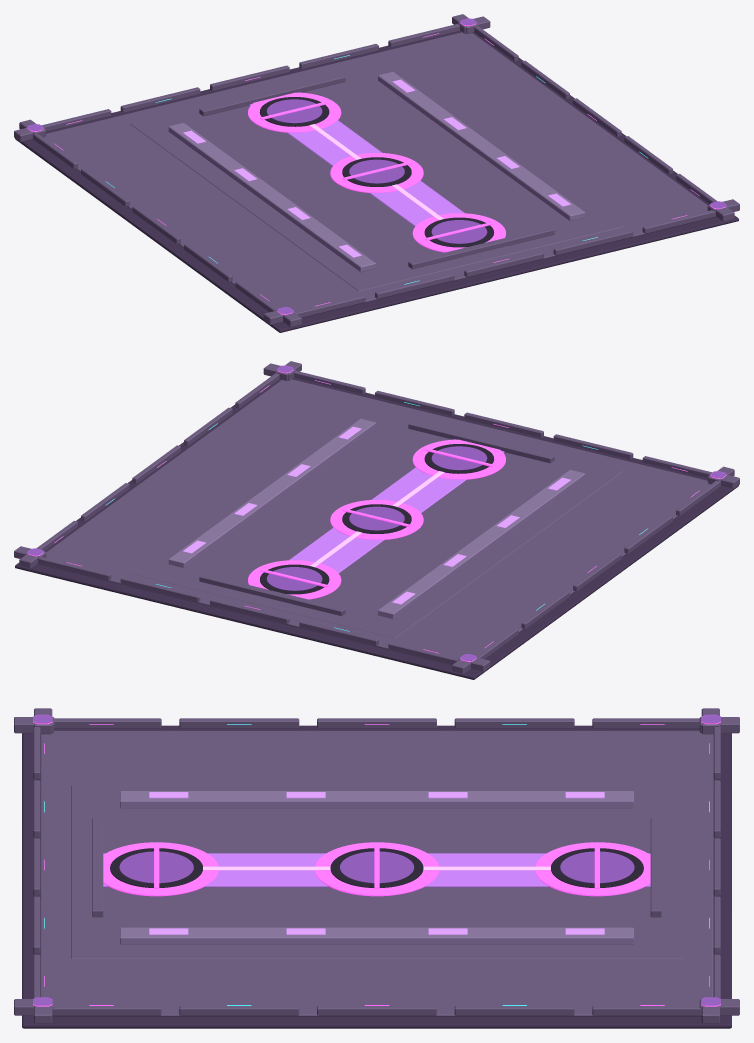
Rendered from sector_2_violet_glassway.glb.
3 renders of one model, top to bottom at view 1: azimuth 30°, elevation 25°; view 2: azimuth 150°, elevation 25°; view 3: azimuth 270°, elevation 25°, orthographic. The views are drawn at different scales.
Parts seen in each view (by area): view 1: VioletGlasswayContinuousGraphiteFloorBed, VioletGlasswayLongRouteFoundation, VioletGlasswayDarkRiftUndertray, VioletGlasswayCentralGlassChannel, VioletGlasswayRaisedSideStructure1, VioletGlasswayRaisedSideStructure0, VioletGlasswayRouteEndFrame0, VioletGlasswayRouteLensNode1OuterMagentaPrismRing, VioletGlasswayRouteLensNode2OuterMagentaPrismRing, VioletGlasswayRouteEndFrame1, VioletGlasswayRouteLensNode0OuterMagentaPrismRing, VioletGlasswayRouteLensNode1VioletGlassLensPlate (+16 smaller); view 2: VioletGlasswayContinuousGraphiteFloorBed, VioletGlasswayLongRouteFoundation, VioletGlasswayDarkRiftUndertray, VioletGlasswayCentralGlassChannel, VioletGlasswayRaisedSideStructure1, VioletGlasswayRaisedSideStructure0, VioletGlasswayRouteEndFrame1, VioletGlasswayRouteLensNode1OuterMagentaPrismRing, VioletGlasswayRouteLensNode0OuterMagentaPrismRing, VioletGlasswayRouteEndFrame0, VioletGlasswayRouteLensNode2OuterMagentaPrismRing, VioletGlasswayRouteLensNode1VioletGlassLensPlate (+16 smaller); view 3: VioletGlasswayContinuousGraphiteFloorBed, VioletGlasswayLongRouteFoundation, VioletGlasswayDarkRiftUndertray, VioletGlasswayRaisedSideStructure0, VioletGlasswayRaisedSideStructure1, VioletGlasswayCentralGlassChannel, VioletGlasswayRouteLensNode1OuterMagentaPrismRing, VioletGlasswayRouteLensNode0OuterMagentaPrismRing, VioletGlasswayRouteLensNode2OuterMagentaPrismRing, VioletGlasswayRouteLensNode1VioletGlassLensPlate, VioletGlasswayRouteLensNode0VioletGlassLensPlate, VioletGlasswayRouteLensNode2VioletGlassLensPlate (+16 smaller).
Part boxes in pixels (x1=…): VioletGlasswayContinuousGraphiteFloorBed: x1=43, y1=32, x2=716, y2=317; VioletGlasswayLongRouteFoundation: x1=130, y1=59, x2=623, y2=291; VioletGlasswayDarkRiftUndertray: x1=15, y1=31, x2=738, y2=332; VioletGlasswayCentralGlassChannel: x1=249, y1=92, x2=505, y2=256; VioletGlasswayRaisedSideStructure1: x1=378, y1=72, x2=585, y2=221; VioletGlasswayRaisedSideStructure0: x1=168, y1=123, x2=375, y2=272; VioletGlasswayRouteEndFrame0: x1=408, y1=227, x2=554, y2=269; VioletGlasswayRouteLensNode1OuterMagentaPrismRing: x1=330, y1=153, x2=423, y2=192; VioletGlasswayRouteLensNode2OuterMagentaPrismRing: x1=248, y1=92, x2=341, y2=132; VioletGlasswayRouteEndFrame1: x1=199, y1=74, x2=345, y2=116; VioletGlasswayRouteLensNode0OuterMagentaPrismRing: x1=412, y1=213, x2=505, y2=252; VioletGlasswayRouteLensNode1VioletGlassLensPlate: x1=349, y1=159, x2=404, y2=183; VioletGlasswayContinuousGraphiteFloorBed: x1=37, y1=379, x2=710, y2=664; VioletGlasswayLongRouteFoundation: x1=130, y1=406, x2=623, y2=638; VioletGlasswayDarkRiftUndertray: x1=15, y1=378, x2=738, y2=679; VioletGlasswayCentralGlassChannel: x1=248, y1=439, x2=504, y2=603; VioletGlasswayRaisedSideStructure1: x1=168, y1=419, x2=375, y2=568; VioletGlasswayRaisedSideStructure0: x1=378, y1=470, x2=585, y2=619; VioletGlasswayRouteEndFrame1: x1=199, y1=574, x2=345, y2=616; VioletGlasswayRouteLensNode1OuterMagentaPrismRing: x1=330, y1=500, x2=423, y2=539; VioletGlasswayRouteLensNode0OuterMagentaPrismRing: x1=412, y1=439, x2=505, y2=479; VioletGlasswayRouteEndFrame0: x1=408, y1=421, x2=554, y2=463; VioletGlasswayRouteLensNode2OuterMagentaPrismRing: x1=248, y1=560, x2=341, y2=599; VioletGlasswayRouteLensNode1VioletGlassLensPlate: x1=349, y1=506, x2=404, y2=530; VioletGlasswayContinuousGraphiteFloorBed: x1=40, y1=730, x2=713, y2=1016; VioletGlasswayLongRouteFoundation: x1=71, y1=785, x2=682, y2=959; VioletGlasswayDarkRiftUndertray: x1=22, y1=725, x2=731, y2=1028; VioletGlasswayRaisedSideStructure0: x1=120, y1=791, x2=633, y2=808; VioletGlasswayRaisedSideStructure1: x1=120, y1=927, x2=633, y2=944; VioletGlasswayCentralGlassChannel: x1=103, y1=853, x2=650, y2=887; VioletGlasswayRouteLensNode1OuterMagentaPrismRing: x1=314, y1=842, x2=439, y2=896; VioletGlasswayRouteLensNode0OuterMagentaPrismRing: x1=103, y1=842, x2=218, y2=896; VioletGlasswayRouteLensNode2OuterMagentaPrismRing: x1=535, y1=842, x2=650, y2=896; VioletGlasswayRouteLensNode1VioletGlassLensPlate: x1=339, y1=851, x2=414, y2=883; VioletGlasswayRouteLensNode0VioletGlassLensPlate: x1=119, y1=851, x2=193, y2=883; VioletGlasswayRouteLensNode2VioletGlassLensPlate: x1=560, y1=851, x2=634, y2=883.
Size of the model in its own units: 59.3 by 1.71 by 59.3.
